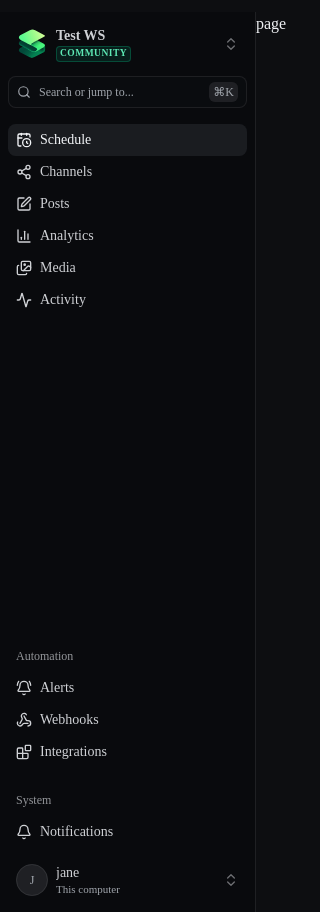
Test: the signed-in person in the sidebar › local: the computer user, who signed in with the access token and can sign out
Expected: the text with test id "user-name" reads "jane", [56,865,79,880]
Expected: the text "This computer" is shown, [56,883,120,895]
Click the button "J jane This computer" at (128, 880), box [8,856,247,904]
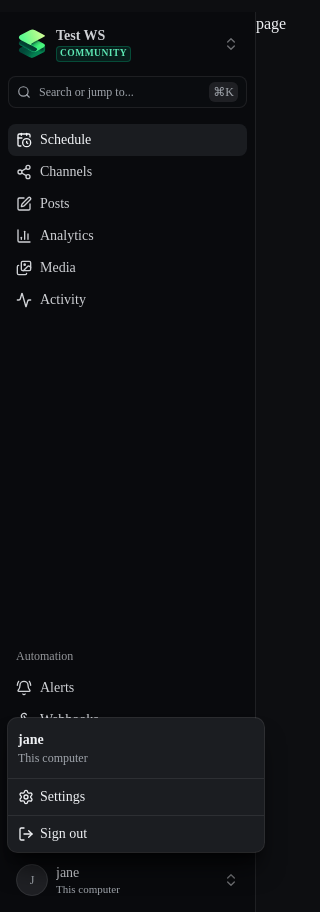
Result: the menu item "Sign out" is shown at [18,826,87,842]
